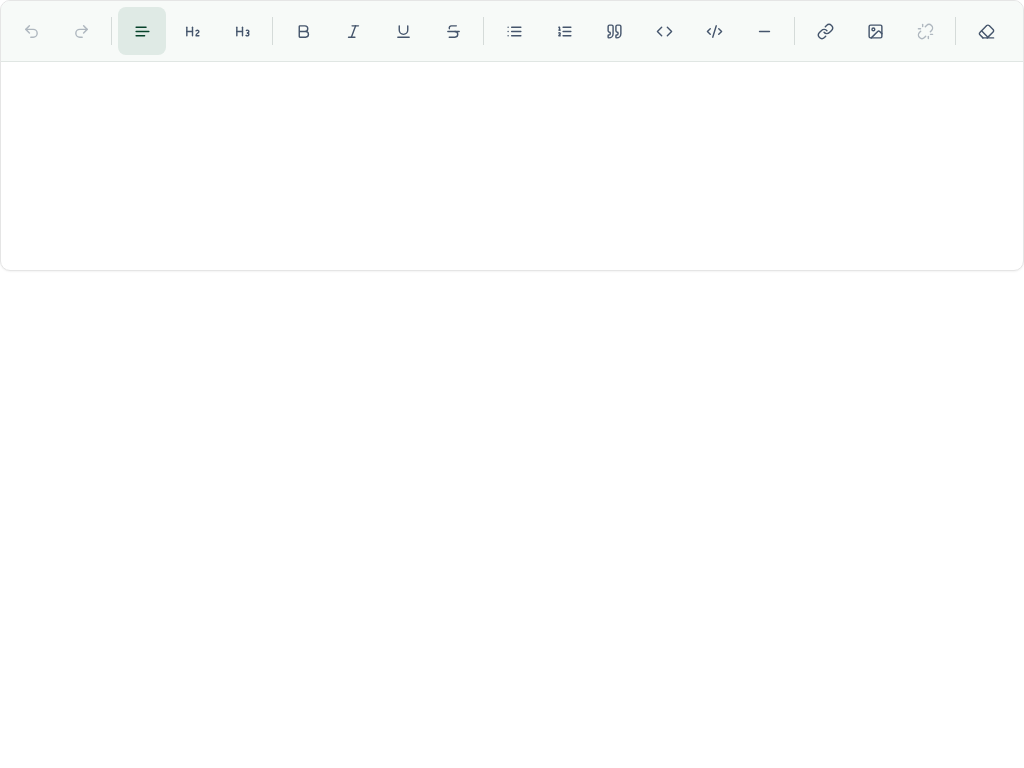
rich text editor › requires alternative text before inserting an image
Expected: the button named "Undo" is shown, left=7, top=7, right=55, bottom=55
Click the button named "Insert image": point(875, 31) left=851, top=7, right=899, bottom=55
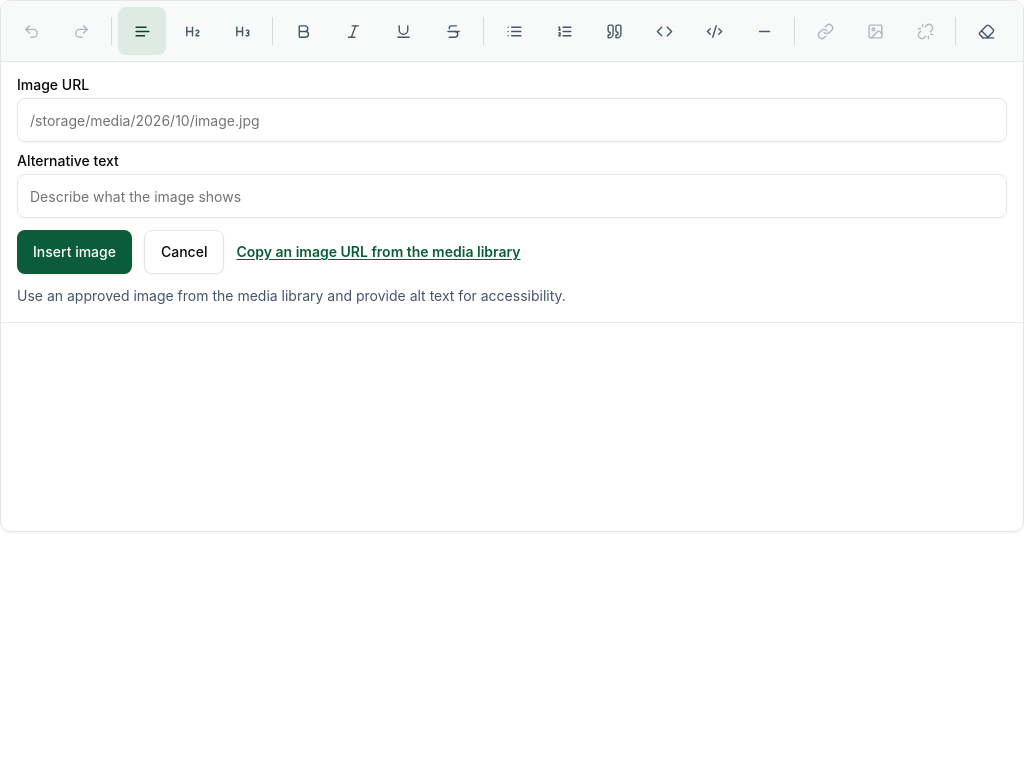
In the field labelled "Image URL": point(512, 120) left=17, top=98, right=1007, bottom=142, type "/storage/media/renal-team.jpg"
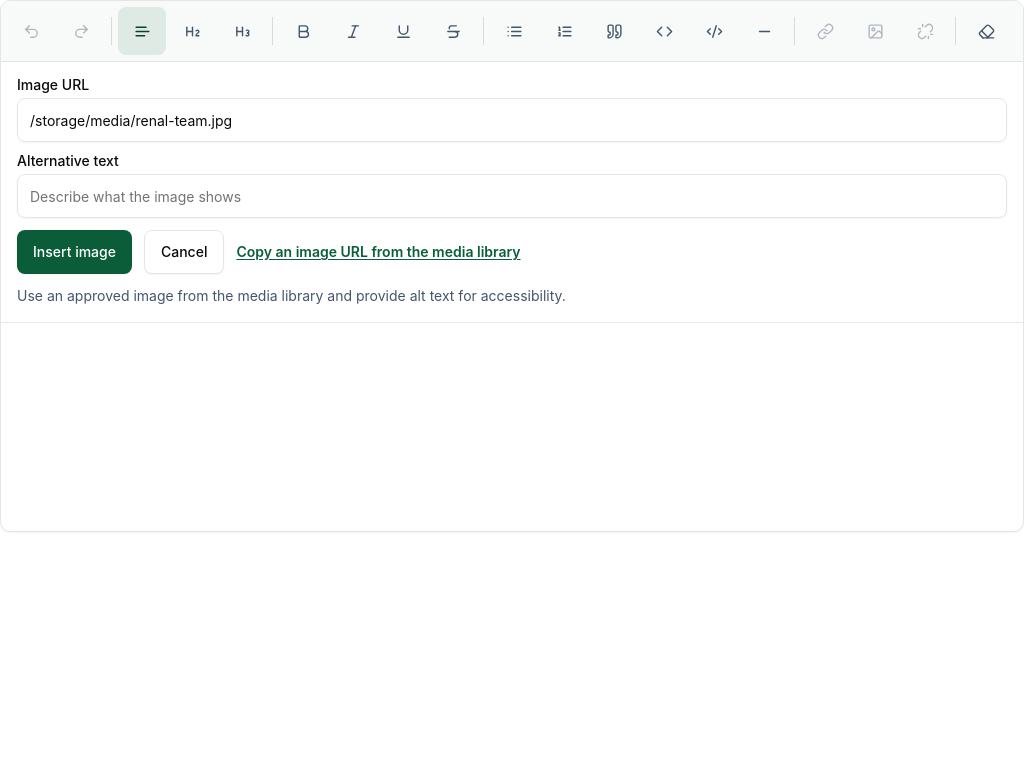
Click the button "Insert image": point(74, 252) left=17, top=230, right=132, bottom=274
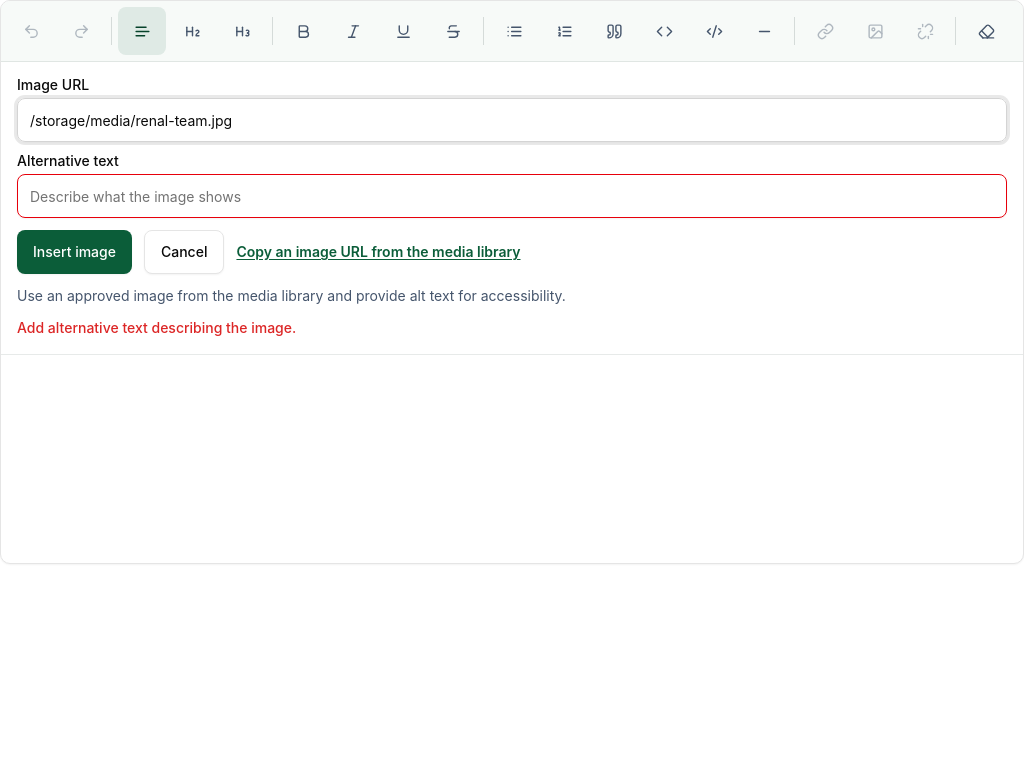
Result: the message shows "Add alternative text" at left=17, top=319, right=296, bottom=336
